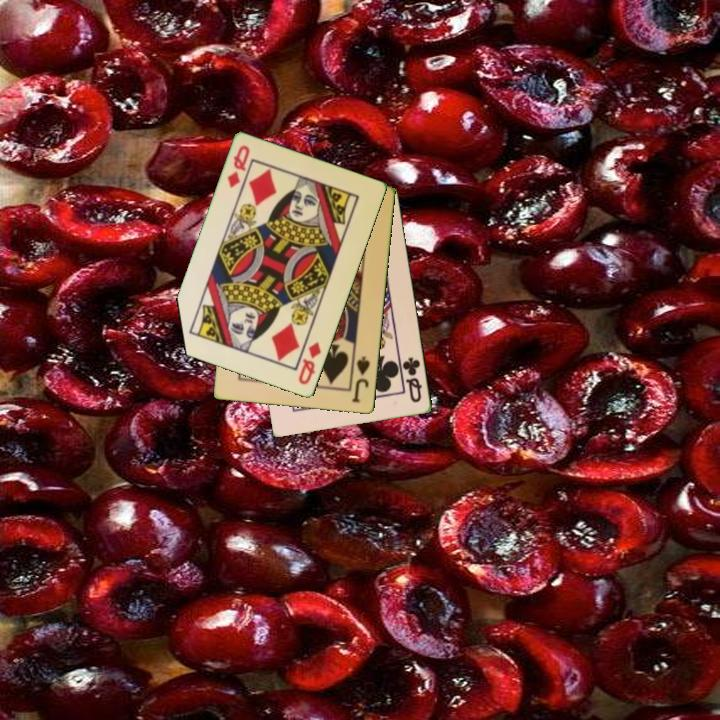Js: (348, 353, 373, 406)
Qc: (399, 354, 425, 406)
Qd: (295, 339, 325, 388), (224, 142, 253, 192)
